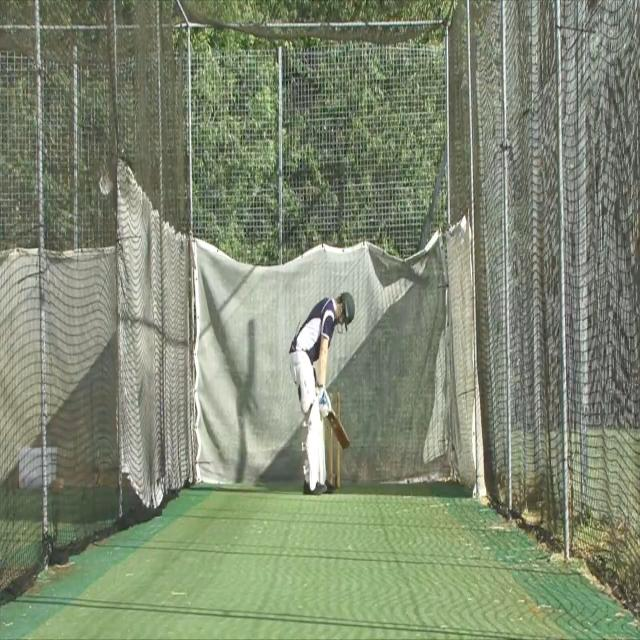batsman: (288, 289, 357, 498)
